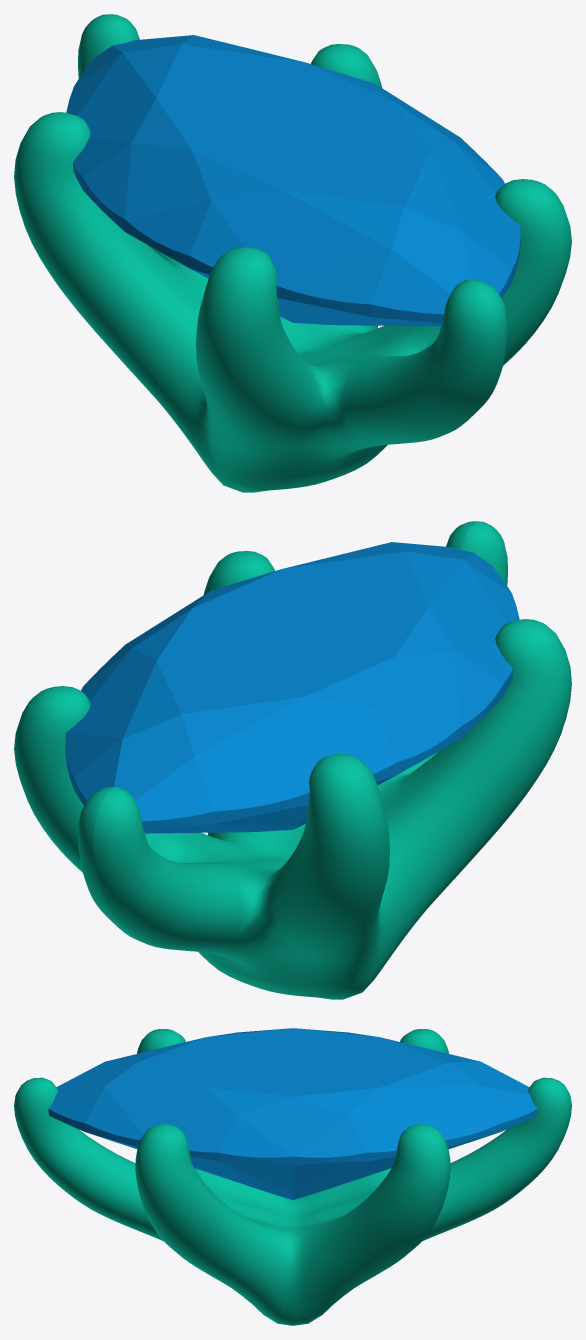
Rendered from marquise.glb.
3 views of the same model, one above another, from view 1: azimuth 30°, elevation 25°; view 2: azimuth 150°, elevation 25°; view 3: azimuth 270°, elevation 25° (orthographic). The views are drawn at different scales.
Visible parts, largest first — view 1: DIA-MRQHD-B1-1, MTL-HEAD-1 (×4); view 2: DIA-MRQHD-B1-1, MTL-HEAD-1 (×4); view 3: MTL-HEAD-1 (×4), DIA-MRQHD-B1-1.
Boxes of the visible parts, x1,y1,x2,y2 form: DIA-MRQHD-B1-1: [66, 35, 520, 326]; MTL-HEAD-1 (×4): [14, 14, 571, 492]; DIA-MRQHD-B1-1: [65, 542, 519, 833]; MTL-HEAD-1 (×4): [14, 521, 571, 999]; MTL-HEAD-1 (×4): [14, 1029, 571, 1325]; DIA-MRQHD-B1-1: [48, 1028, 537, 1199].
Bounding box in the file's own units: 7.1 × 6.56 × 13.62.
